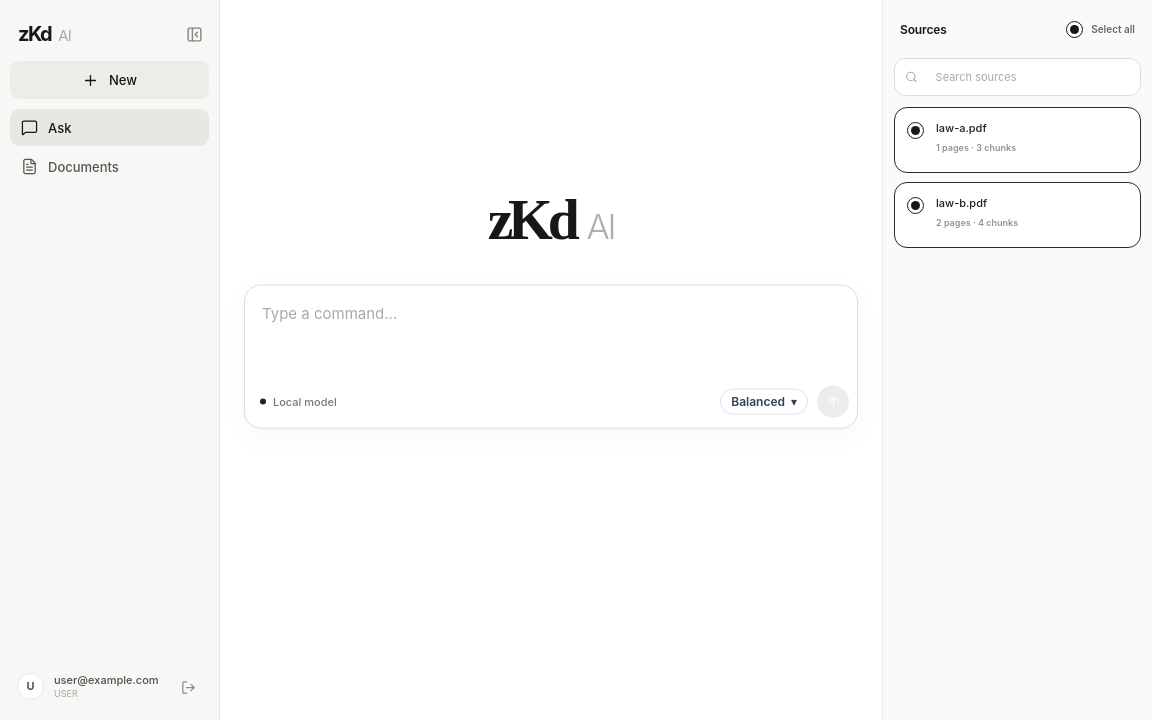
Scenario: local-first Ask workspace › retries only after an explicit local failure and resets browser-memory conversation with New
The image size is (1152, 720).
Expected: the checkbox named "Include law-a.pdf" is shown, left=894, top=107, right=1141, bottom=173
Type "Retry local" into the text box named "Question" at coordinates (551, 332), box left=245, top=286, right=857, bottom=379
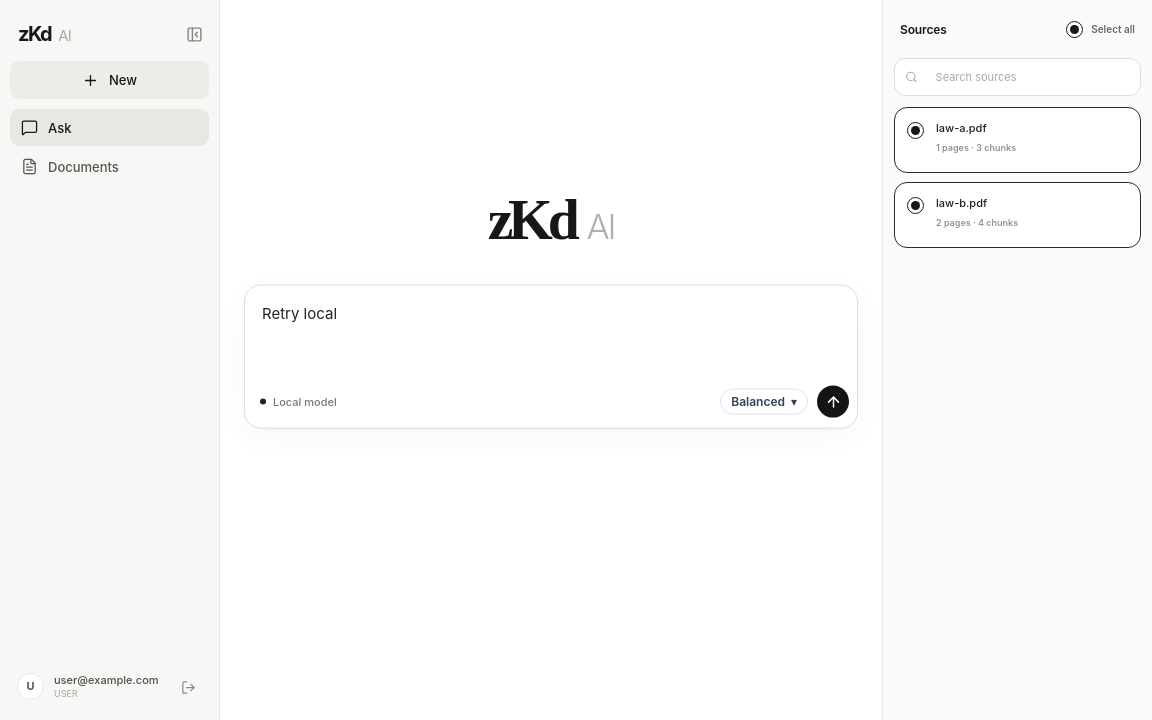
Click the button named "Send message" at coordinates (833, 402), box left=817, top=386, right=849, bottom=418
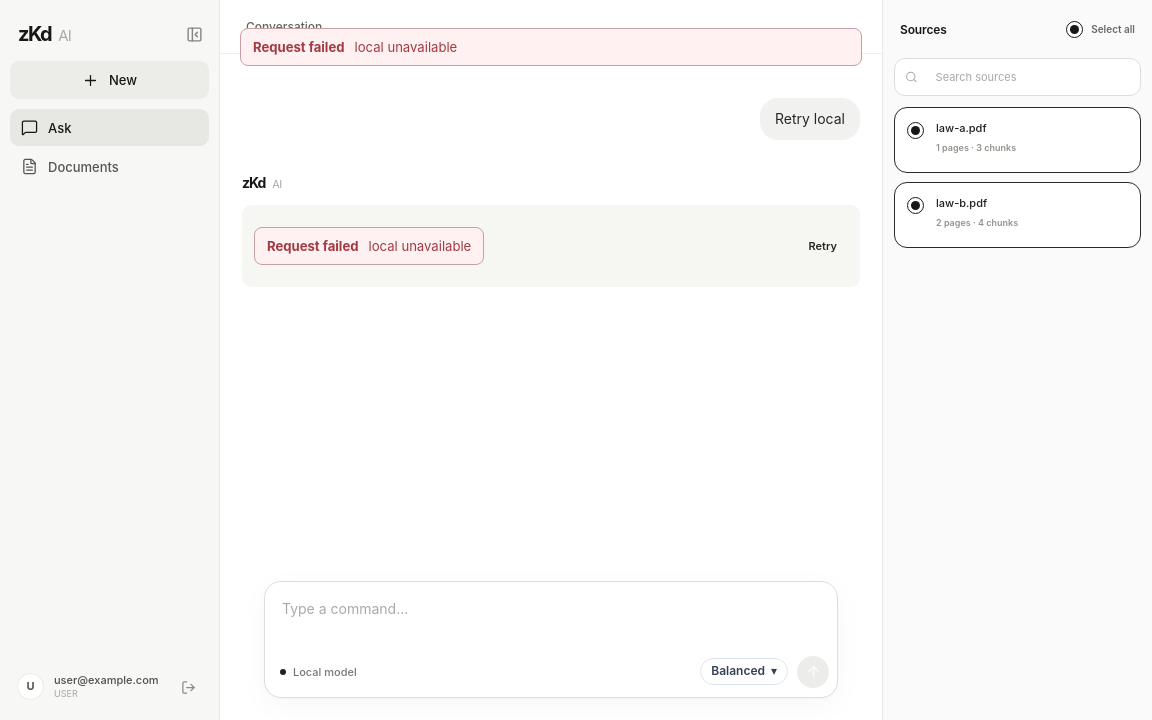
Now the button "Retry" is shown
Click the button "Retry" at coordinates (823, 246), box left=798, top=231, right=848, bottom=261
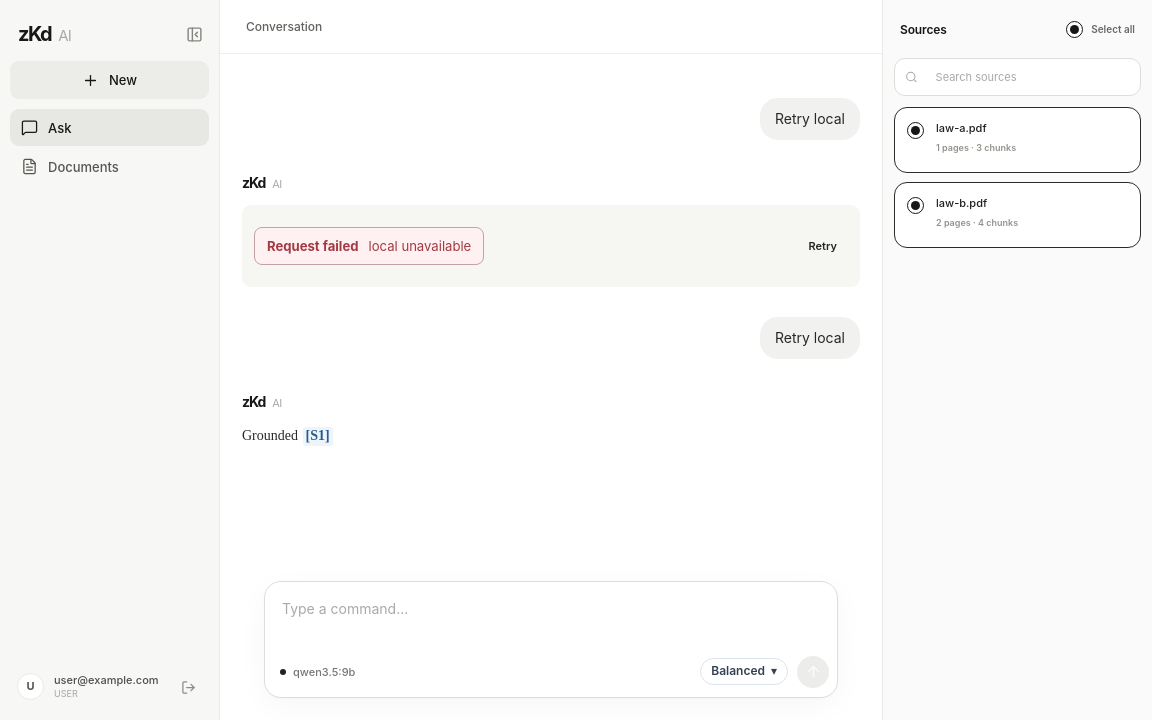
Click the button titled "New inquiry" at coordinates (110, 80), box left=10, top=61, right=209, bottom=99
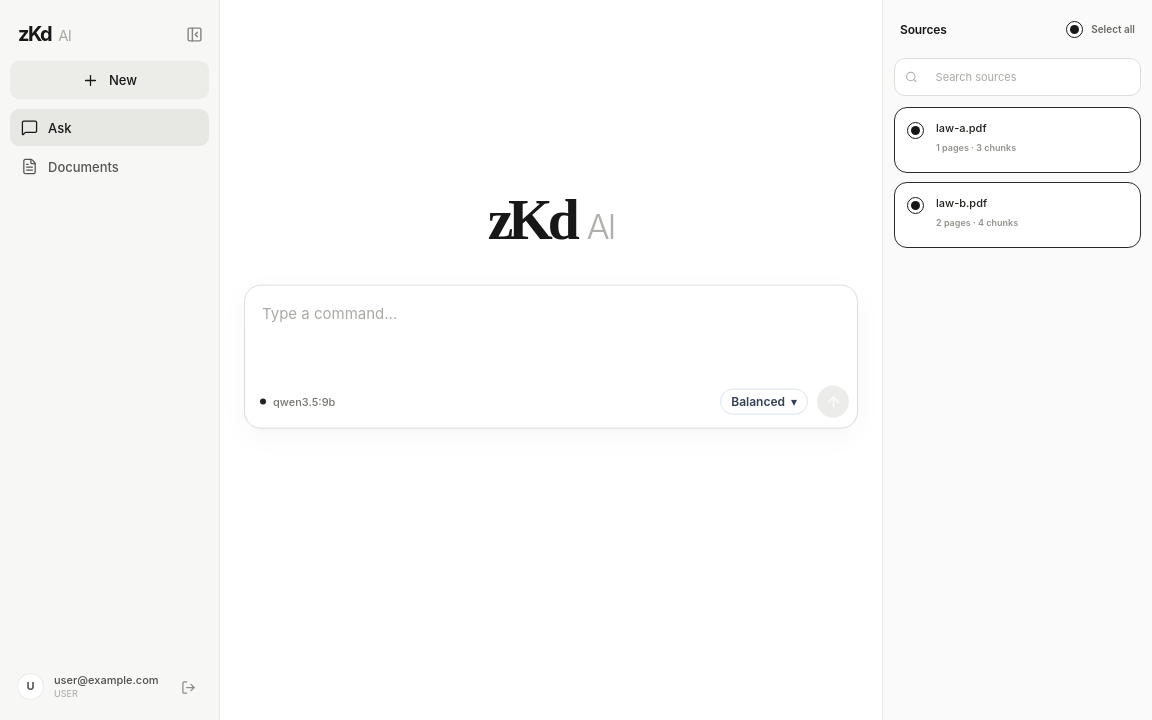
Now the text "Retry local" is gone
